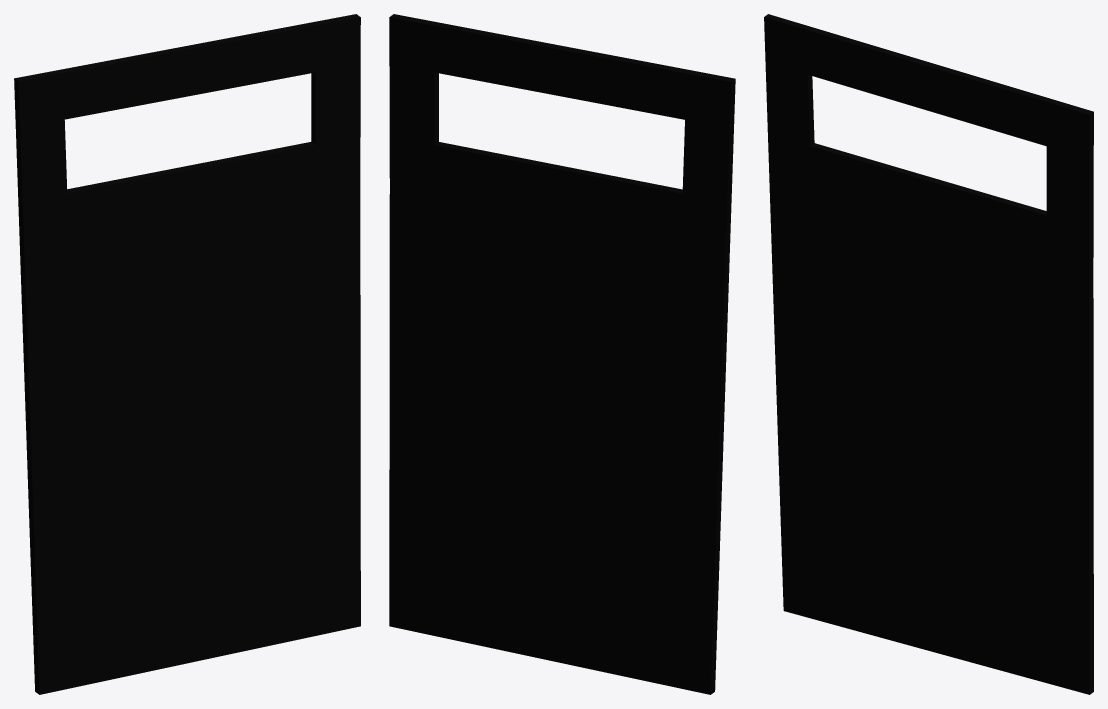
File: JTV Utility Car Rear Door.obj
The picture shows the model from 3 angles, left to right: view 1: azimuth 30°, elevation 25°; view 2: azimuth 150°, elevation 25°; view 3: azimuth 330°, elevation 25°; orthographic projection. The views are drawn at different scales.
Parts seen in each view (by area): view 1: JTV-Rear-Door_Cube.004; view 2: JTV-Rear-Door_Cube.004; view 3: JTV-Rear-Door_Cube.004.
Boxes of the visible parts, bbox=[...] form: JTV-Rear-Door_Cube.004: bbox=[14, 14, 360, 694]; JTV-Rear-Door_Cube.004: bbox=[389, 14, 735, 694]; JTV-Rear-Door_Cube.004: bbox=[764, 14, 1093, 694].
Size of the model in its own units: 1.9 by 3.34 by 0.0449.
